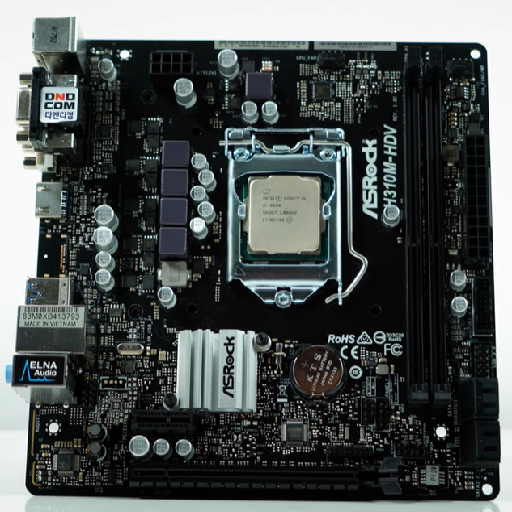CPU: (222, 124, 353, 306)
GPU: (121, 454, 404, 498)
MOTHERBOARD: (4, 15, 501, 504)
RAM: (397, 48, 460, 403)
